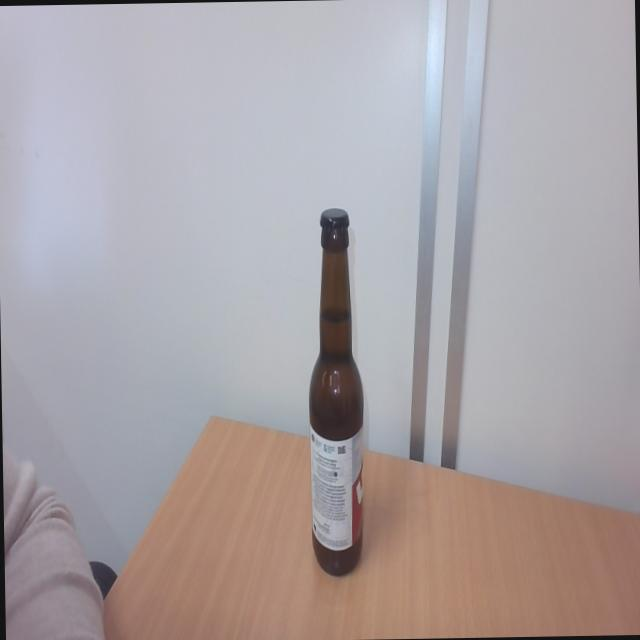Bottle: (305, 234, 367, 580)
Cap: (317, 204, 352, 234)
Label: (308, 428, 364, 550)
